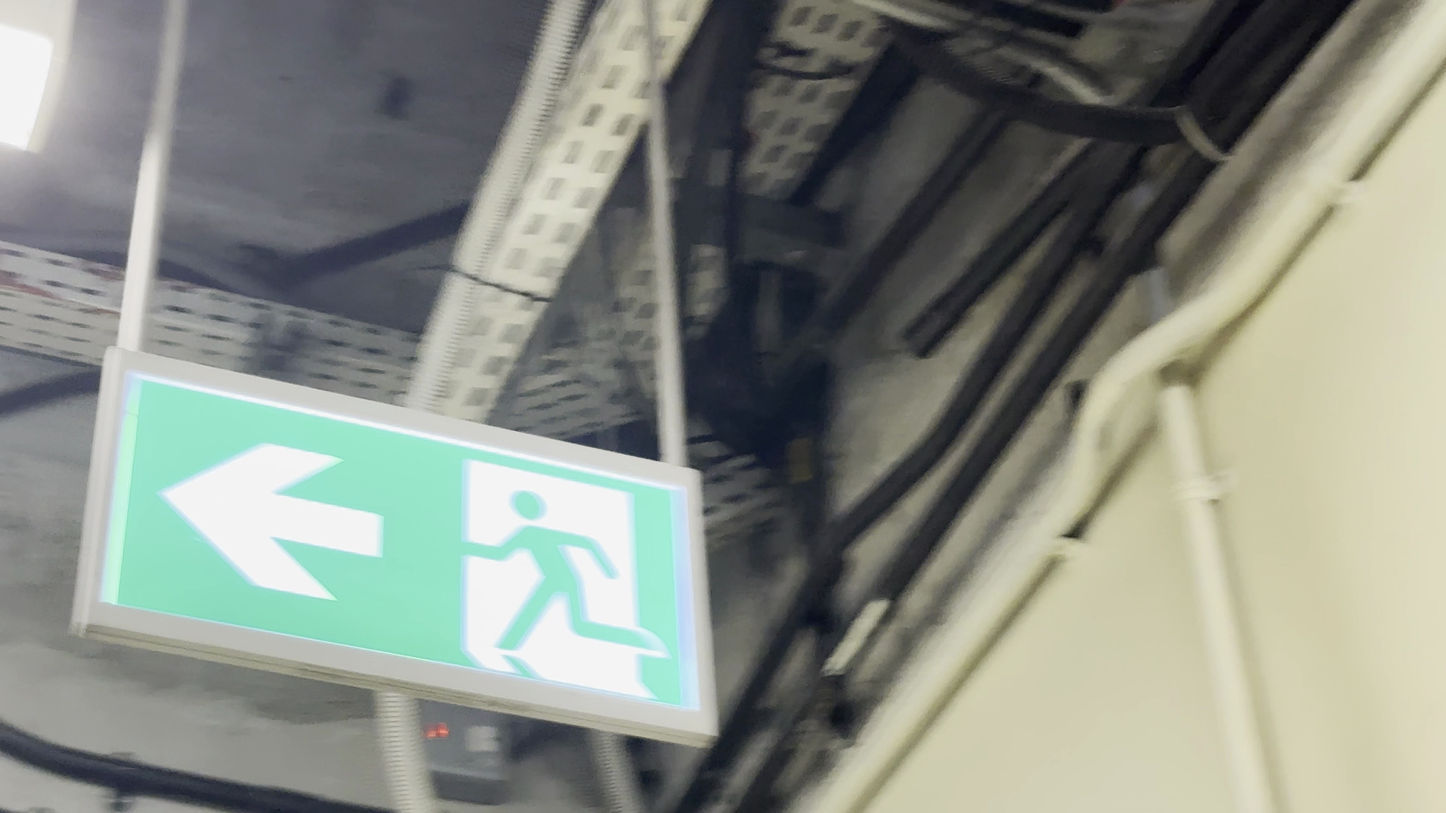emergency_exit: (69, 343, 723, 749)
